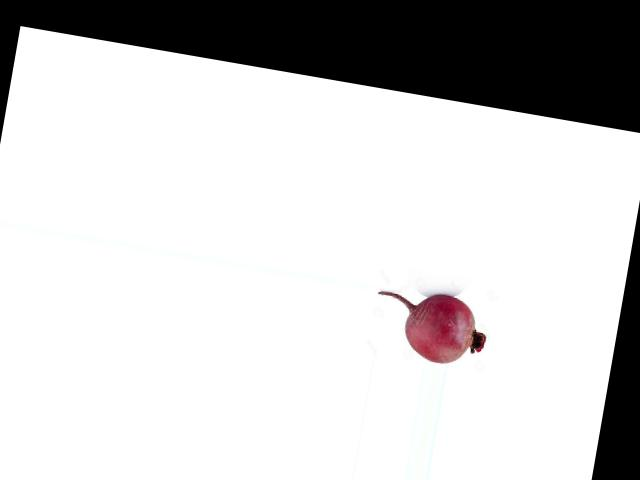beet: (368, 283, 491, 369)
